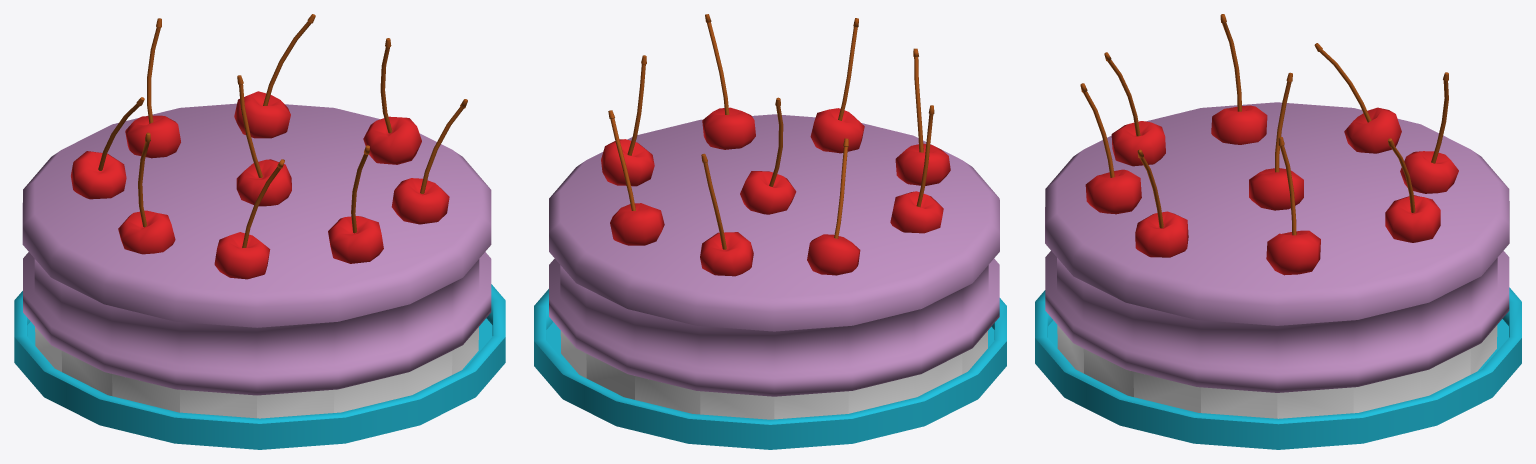
Rendered from SM_Cake.fbx.
3 views of the same model, side by side, from view 1: azimuth 30°, elevation 25°; view 2: azimuth 150°, elevation 25°; view 3: azimuth 270°, elevation 25° (orthographic). The views are drawn at different scales.
Parts seen in each view (by area): view 1: SM_Cake_LOD0; view 2: SM_Cake_LOD0; view 3: SM_Cake_LOD0.
Boxes of the visible parts, x1,y1,x2,y2 form: SM_Cake_LOD0: (14,14,505,449); SM_Cake_LOD0: (534,14,1006,449); SM_Cake_LOD0: (1035,14,1521,449).
Size of the model in its own units: 42.13 by 41.49 by 25.47.
1 material, 1 textured.
